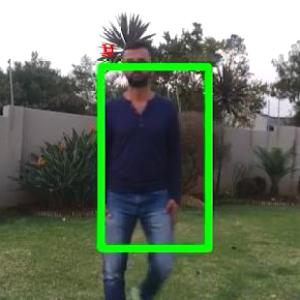follow: (91, 29, 197, 299)
